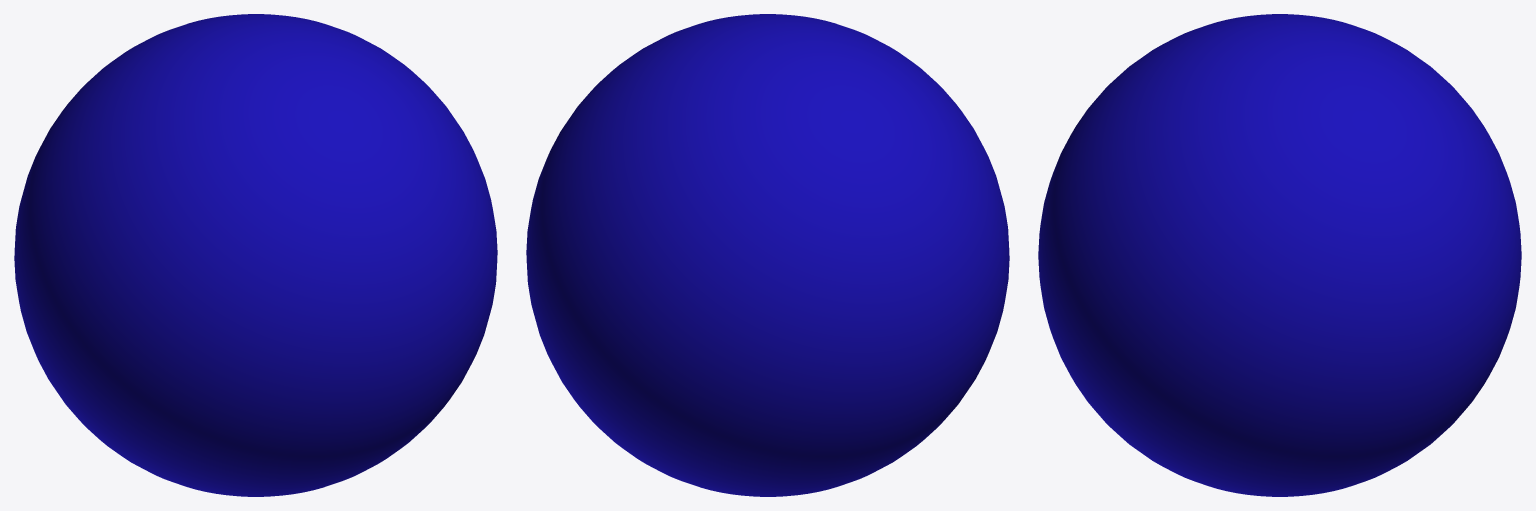
Rendered from esfera_2.glb.
3 views of the same model, side by side, from view 1: azimuth 30°, elevation 25°; view 2: azimuth 150°, elevation 25°; view 3: azimuth 270°, elevation 25° (orthographic).
Visible parts, largest first — view 1: Sphere_1_4; view 2: Sphere_1_4; view 3: Sphere_1_4.
Boxes of the visible parts, <box> form: Sphere_1_4: <box>14,14,497,496</box>; Sphere_1_4: <box>526,14,1009,496</box>; Sphere_1_4: <box>1038,14,1521,496</box>.
Size of the model in its own units: 0.1 by 0.0998 by 0.1.
